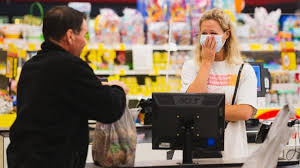Caution: (7, 4, 256, 167)
